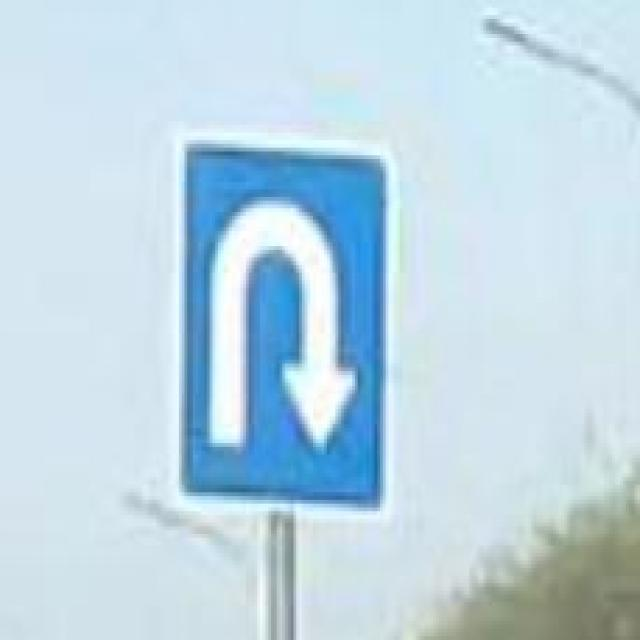traffic sign: (173, 129, 394, 519)
